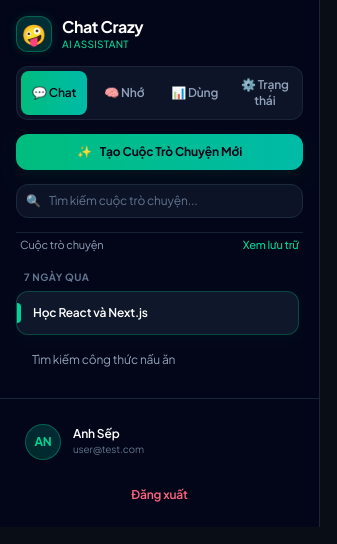
Sidebar Component › filters conversation list when typing in search bar
The image size is (337, 544).
Step 1. Type "nấu ăn" into the field with placeholder "Tìm kiếm cuộc trò chuyện..." → coordinates (160, 201), box [16,184,303,218]
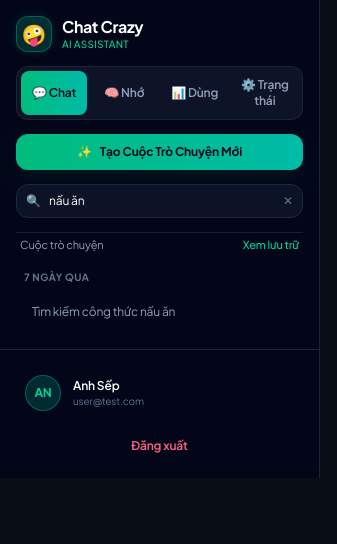
Expected: the text "Tìm kiếm công thức nấu ăn" is shown, [32,304,175,319]
Expected: the text "Học React và Next.js" is gone
